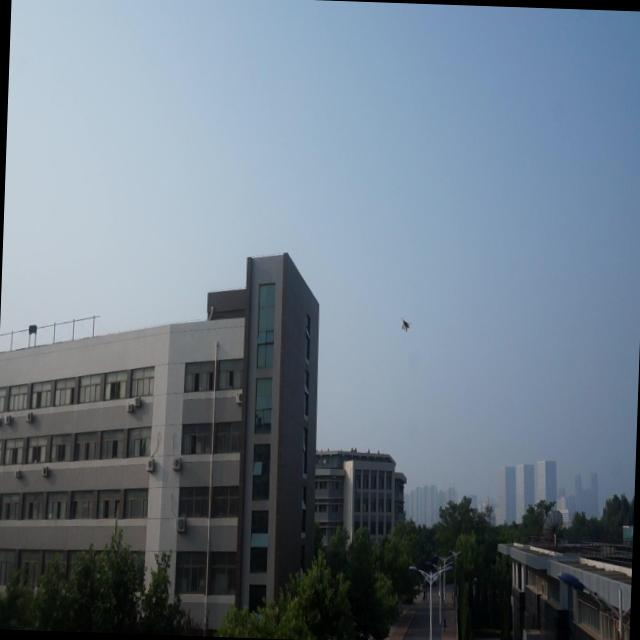drone: (397, 312, 413, 336)
